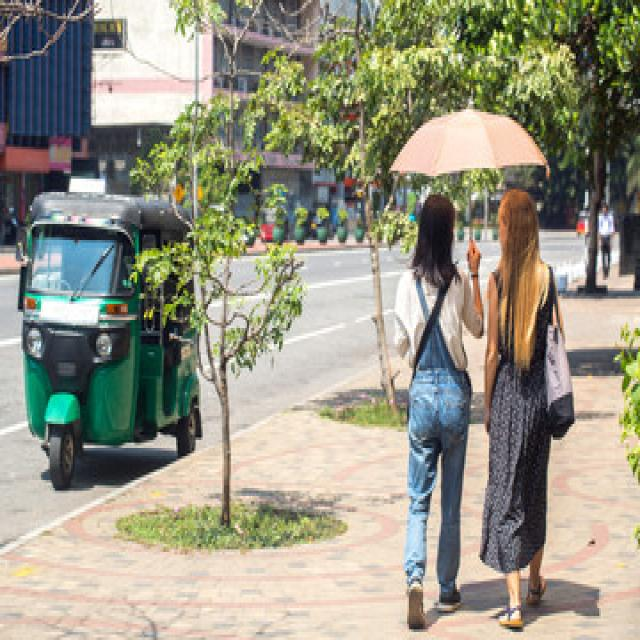person: (420, 189, 555, 629), (395, 195, 482, 629)
three wheeler: (18, 192, 199, 488)
